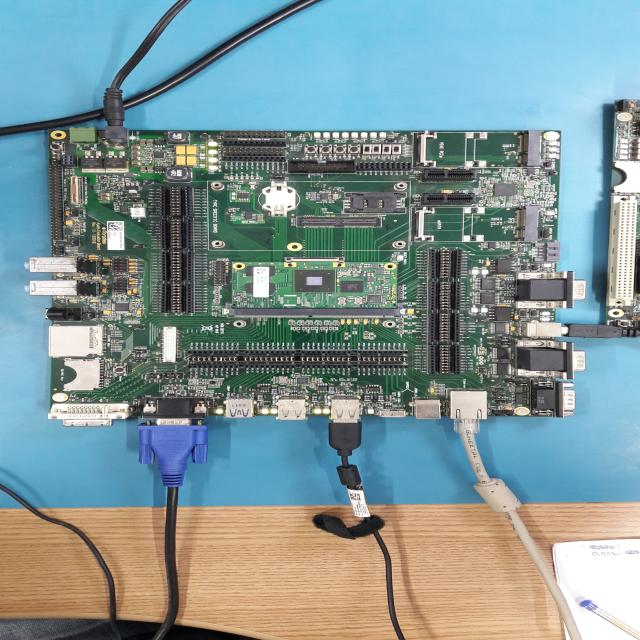som: (225, 258, 415, 317)
